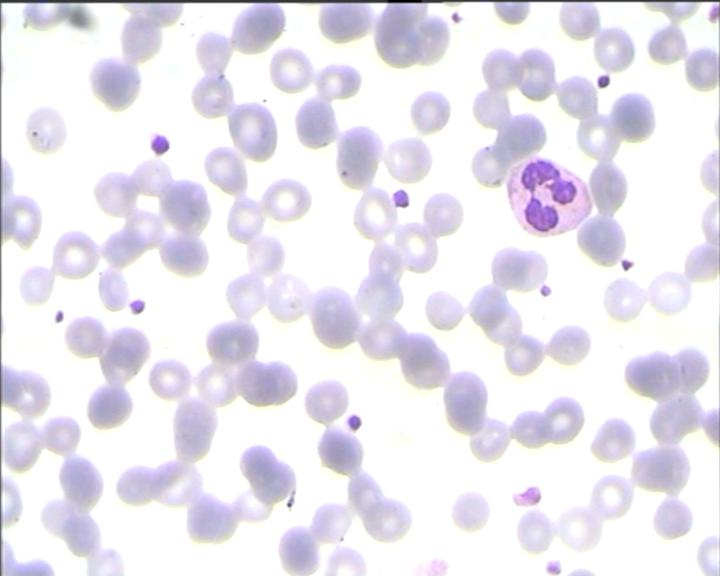neut: (503, 152, 593, 237)
